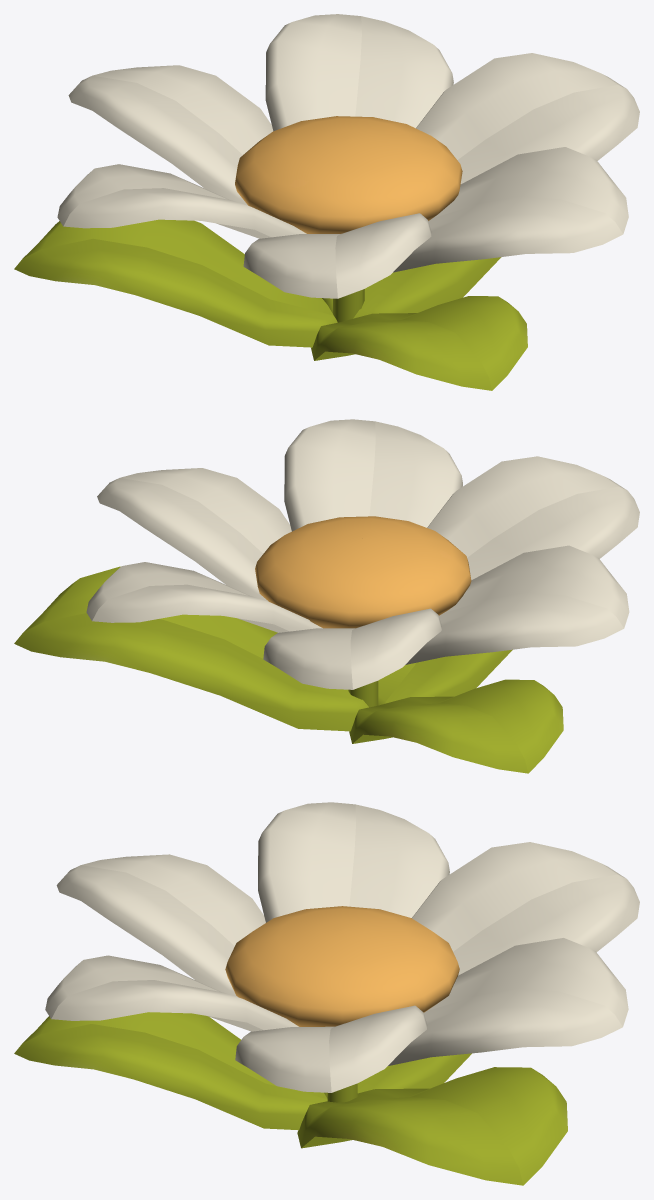
File: flower.fbx
3 views of the same model, one above another, from view 1: azimuth 30°, elevation 25°; view 2: azimuth 150°, elevation 25°; view 3: azimuth 270°, elevation 25° (orthographic). The views are drawn at different scales.
Visible parts, largest first — view 1: flower; view 2: flower; view 3: flower.
Part boxes in pixels (x1=…): flower: x1=14, y1=14, x2=639, y2=390; flower: x1=14, y1=419, x2=639, y2=773; flower: x1=14, y1=802, x2=639, y2=1185.
Size of the model in its own units: 57.28 by 20.9 by 54.31.
11 materials, 11 textured.
